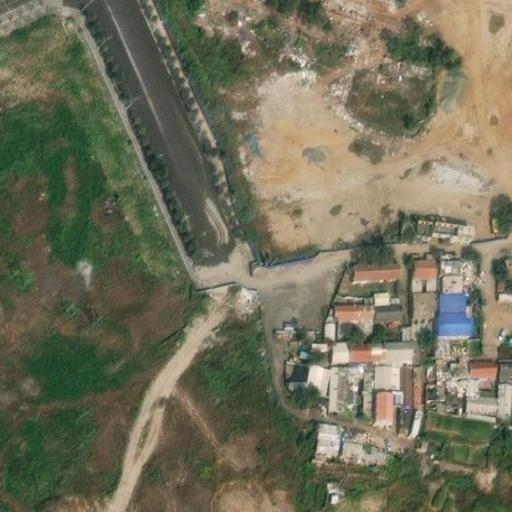building: (339, 434, 394, 470), (426, 157, 484, 191), (412, 216, 474, 242), (335, 295, 373, 316), (305, 358, 330, 389), (411, 284, 435, 316), (353, 254, 398, 271), (317, 420, 339, 453), (361, 359, 375, 410), (438, 306, 470, 328), (375, 359, 401, 384), (374, 383, 394, 413), (439, 285, 464, 307), (467, 389, 499, 406), (447, 373, 481, 389), (415, 252, 438, 273), (400, 359, 412, 398), (388, 335, 410, 356), (469, 355, 499, 370), (499, 377, 512, 411), (496, 275, 512, 302), (329, 361, 339, 404), (443, 267, 465, 286), (332, 333, 349, 357), (368, 335, 388, 355), (347, 358, 363, 383), (349, 335, 368, 356), (373, 299, 399, 314), (440, 251, 464, 267), (339, 359, 348, 395), (499, 355, 512, 377), (310, 339, 329, 354), (400, 398, 411, 420), (403, 318, 417, 335), (373, 284, 388, 299), (325, 316, 335, 333), (426, 272, 438, 284), (411, 272, 422, 285), (394, 384, 404, 398), (508, 253, 512, 269)
